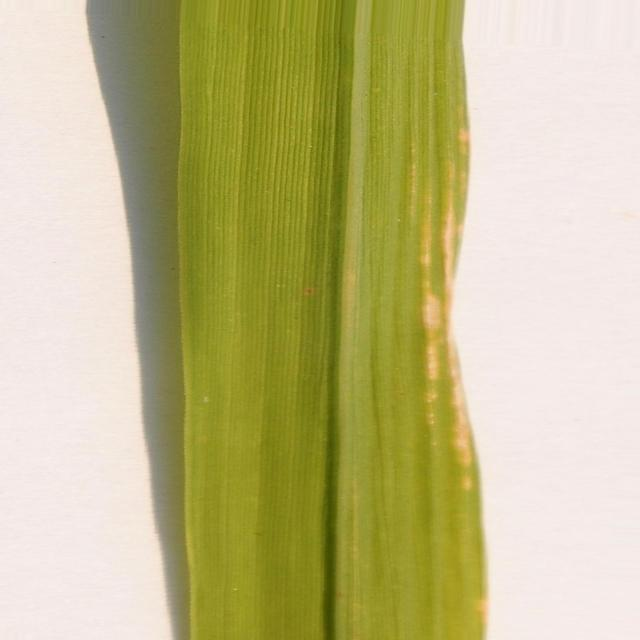Bacterial_Leaf_Blight: (451, 355, 474, 466), (441, 214, 460, 295), (422, 292, 441, 329), (426, 342, 439, 381)
